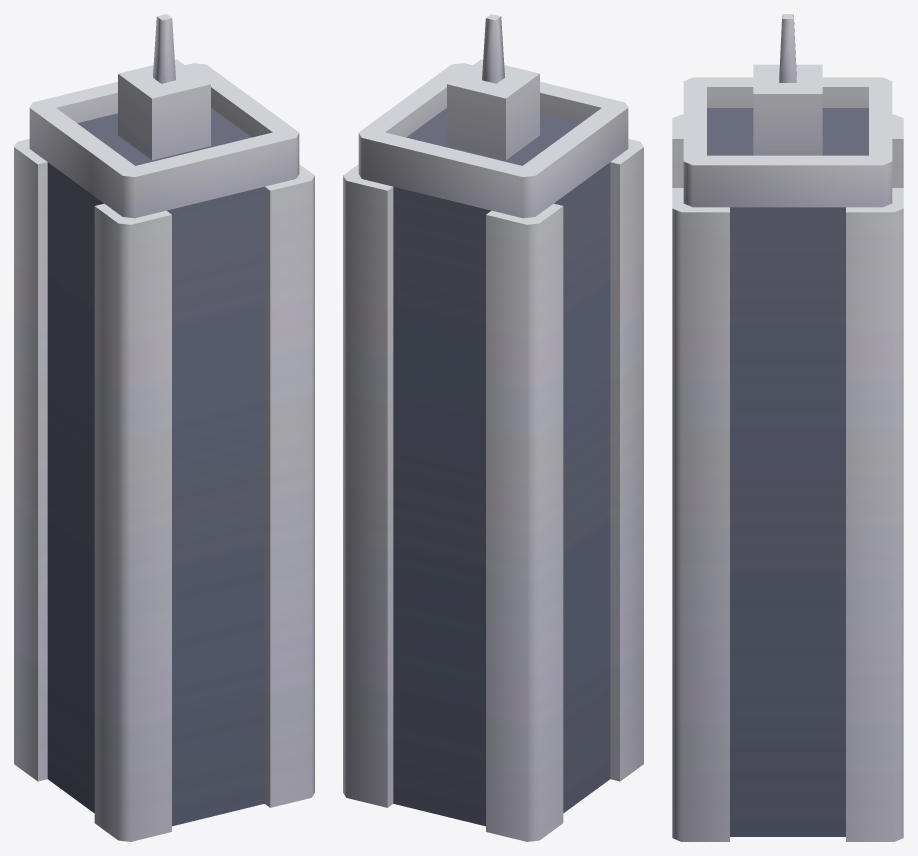
File: low-detail-building-l.glb
3 renders of one model, left to right at view 1: azimuth 30°, elevation 25°; view 2: azimuth 150°, elevation 25°; view 3: azimuth 270°, elevation 25°, orthographic. The views are drawn at different scales.
Visible parts, largest first — view 1: low-detail-building-l; view 2: low-detail-building-l; view 3: low-detail-building-l.
Part boxes in pixels (x1=…): low-detail-building-l: x1=14, y1=14, x2=314, y2=841; low-detail-building-l: x1=343, y1=14, x2=643, y2=841; low-detail-building-l: x1=672, y1=14, x2=903, y2=841.
Bounding box in the file's own units: 0.5 × 1.85 × 0.5.
1 material, 1 textured.
